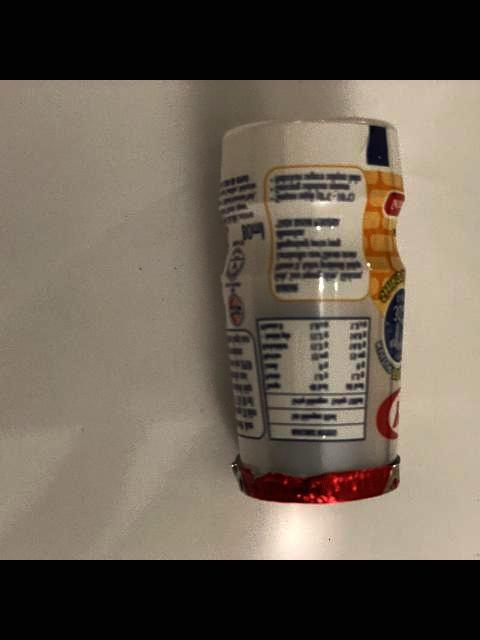plasticbottle: (216, 116, 406, 504)
